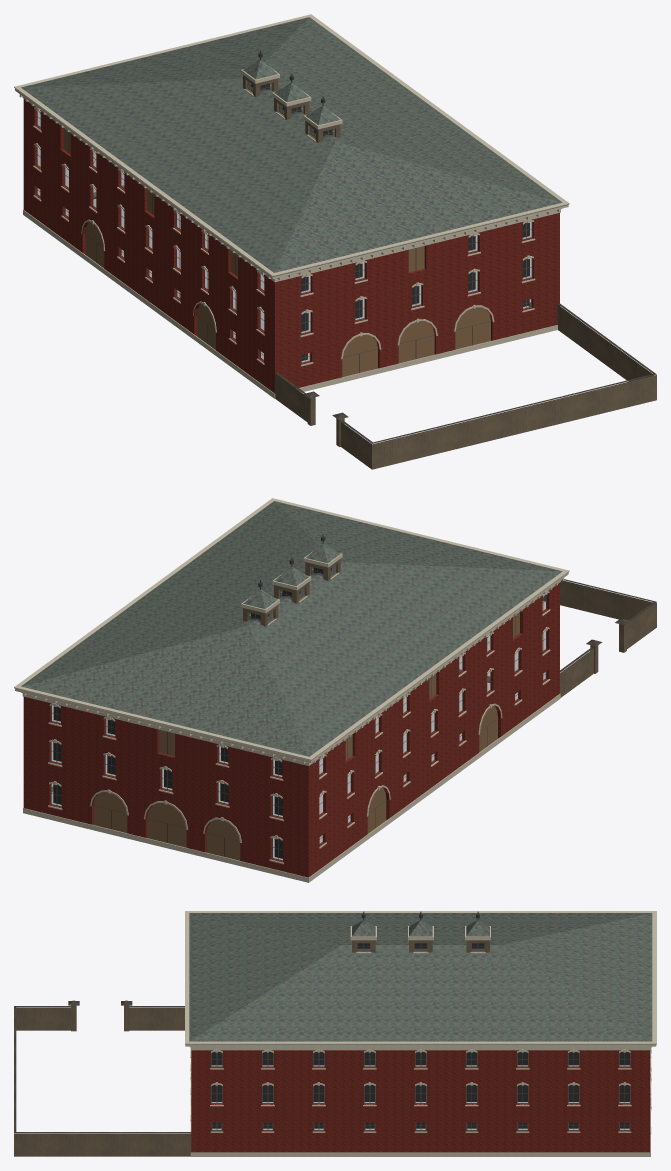
Rendered from parmelee_stables_1871__stable_1871.glb.
3 views of the same model, one above another, from view 1: azimuth 30°, elevation 25°; view 2: azimuth 150°, elevation 25°; view 3: azimuth 270°, elevation 25° (orthographic). The views are drawn at different scales.
Visible parts, largest first — view 1: parmelee_stables_1871__stable_1871; view 2: parmelee_stables_1871__stable_1871; view 3: parmelee_stables_1871__stable_1871.
Part boxes in pixels (x1=…): parmelee_stables_1871__stable_1871: x1=14, y1=14, x2=656, y2=469; parmelee_stables_1871__stable_1871: x1=14, y1=498, x2=656, y2=882; parmelee_stables_1871__stable_1871: x1=14, y1=911, x2=656, y2=1156.
Bounding box in the file's own units: 31.82 × 20.3 × 65.26.
10 materials, 5 textured.
